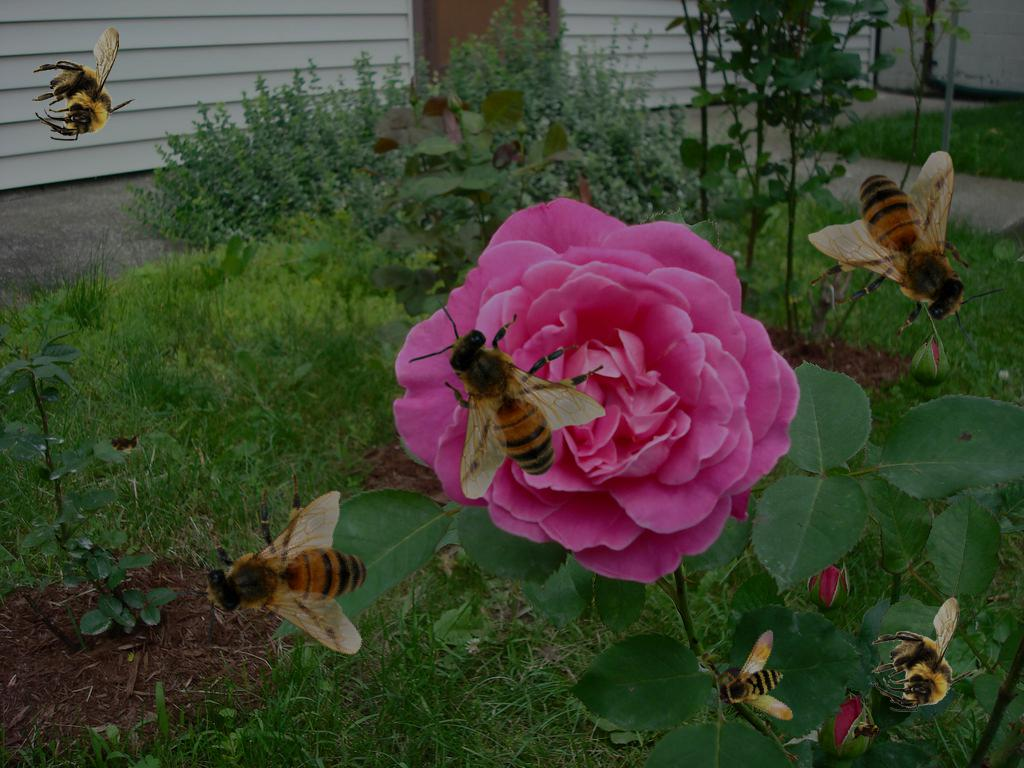Bee: (148, 441, 417, 709), (808, 150, 1007, 354), (407, 296, 606, 500), (871, 597, 978, 712), (31, 26, 138, 141), (711, 618, 819, 730), (104, 432, 144, 454), (847, 721, 887, 743)
